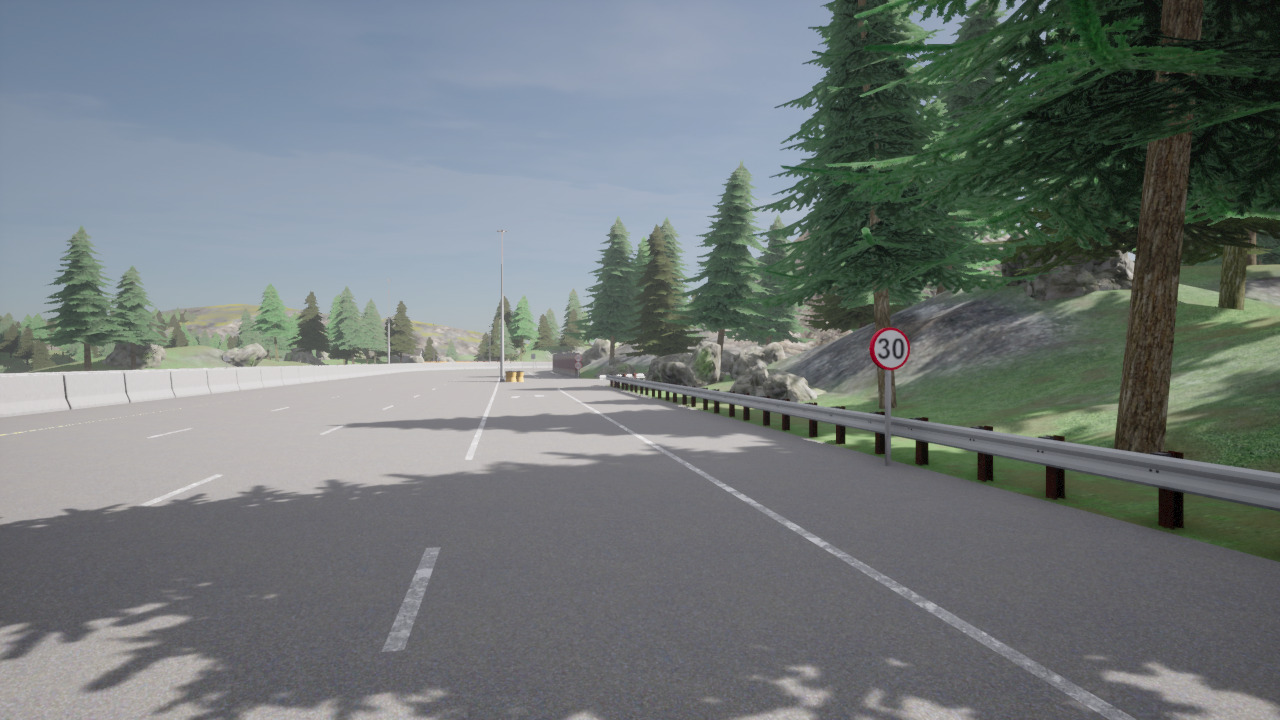sl30: (868, 326, 912, 372)
